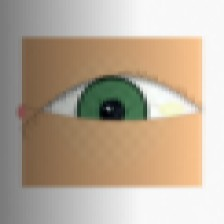pinguecula_lesion: (146, 89, 197, 130)
